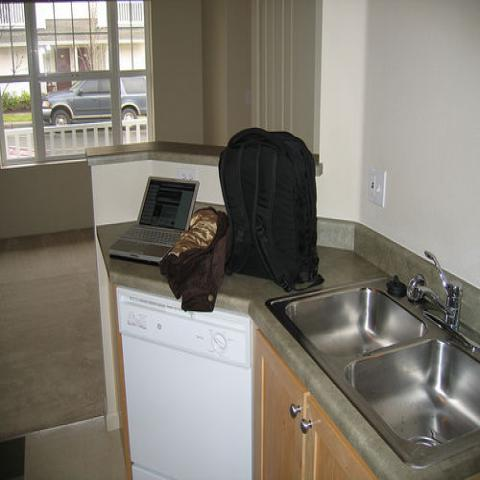car: (42, 76, 147, 124)
